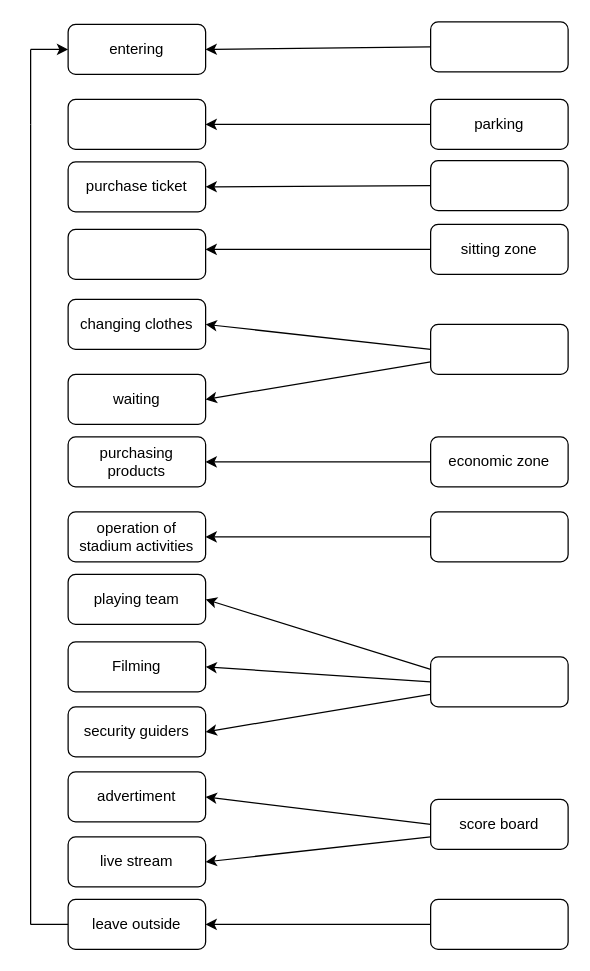
This 590x971 diagram has some shape labels left out. Each missing label, with the box of its shape:
dressing rooms: (429, 323, 568, 374)
entrance: (429, 21, 568, 72)
exit gate: (429, 898, 568, 949)
holding vehicles: (67, 98, 206, 149)
offices: (429, 511, 568, 562)
sport venue: (429, 656, 568, 707)
tickets sales: (429, 159, 568, 211)
watching match: (67, 228, 206, 279)
